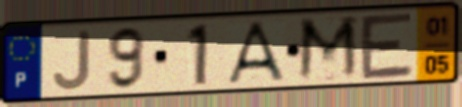1: (184, 22, 211, 88)
9: (104, 24, 148, 91)
A: (224, 19, 289, 87)
E: (358, 10, 416, 83)
J: (50, 28, 93, 93)
M: (295, 14, 362, 85)
